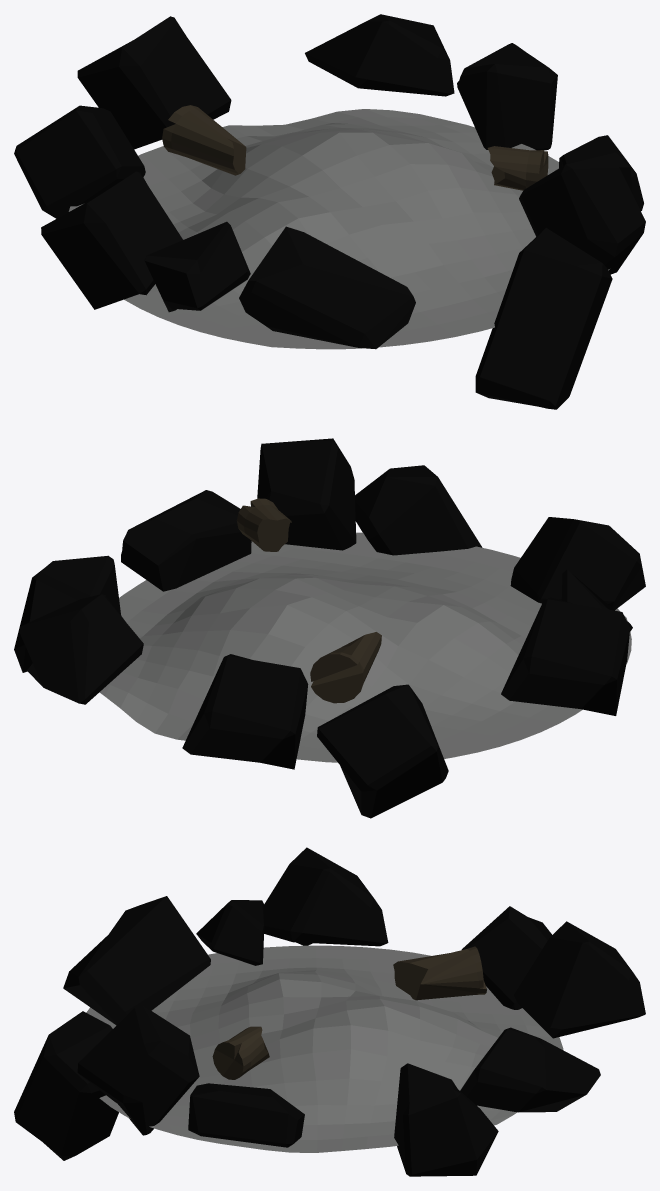
Rendered from campfire2.fbx.
3 renders of one model, top to bottom at view 1: azimuth 30°, elevation 25°; view 2: azimuth 150°, elevation 25°; view 3: azimuth 270°, elevation 25°, orthographic. The views are drawn at different scales.
Visible parts, largest first — view 1: Cube.150; view 2: Cube.150; view 3: Cube.150.
Part boxes in pixels (x1=…): Cube.150: x1=14, y1=14, x2=645, y2=409; Cube.150: x1=14, y1=438, x2=645, y2=818; Cube.150: x1=14, y1=847, x2=645, y2=1176.
Bounding box in the file's own units: 1263 × 442 × 1411.
